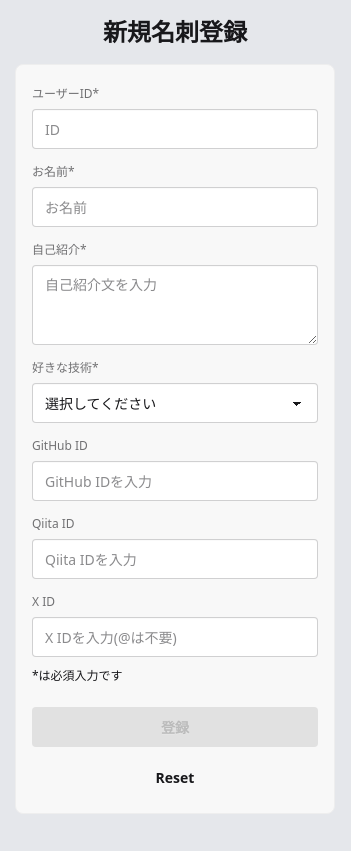
Test: 新規登録ページ › IDがないときにエラーメッセージがでる
The width and height of the screenshot is (351, 851).
Click the field with placeholder "ID": (175, 129) [32,109,318,149]
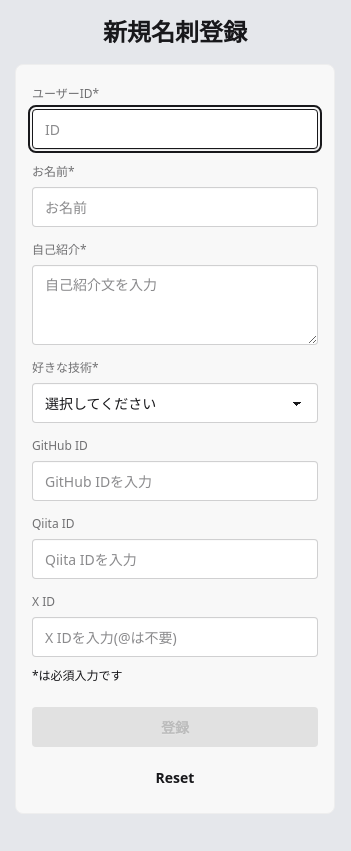
Press Tab
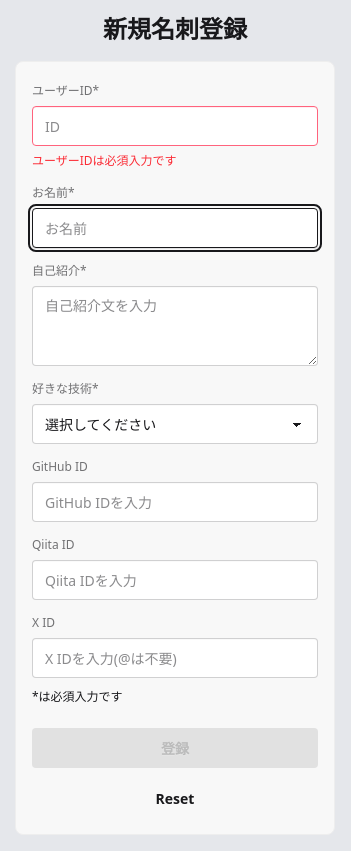
Now the text "ユーザーIDは必須入力です" is shown, box [32,152,177,169]
